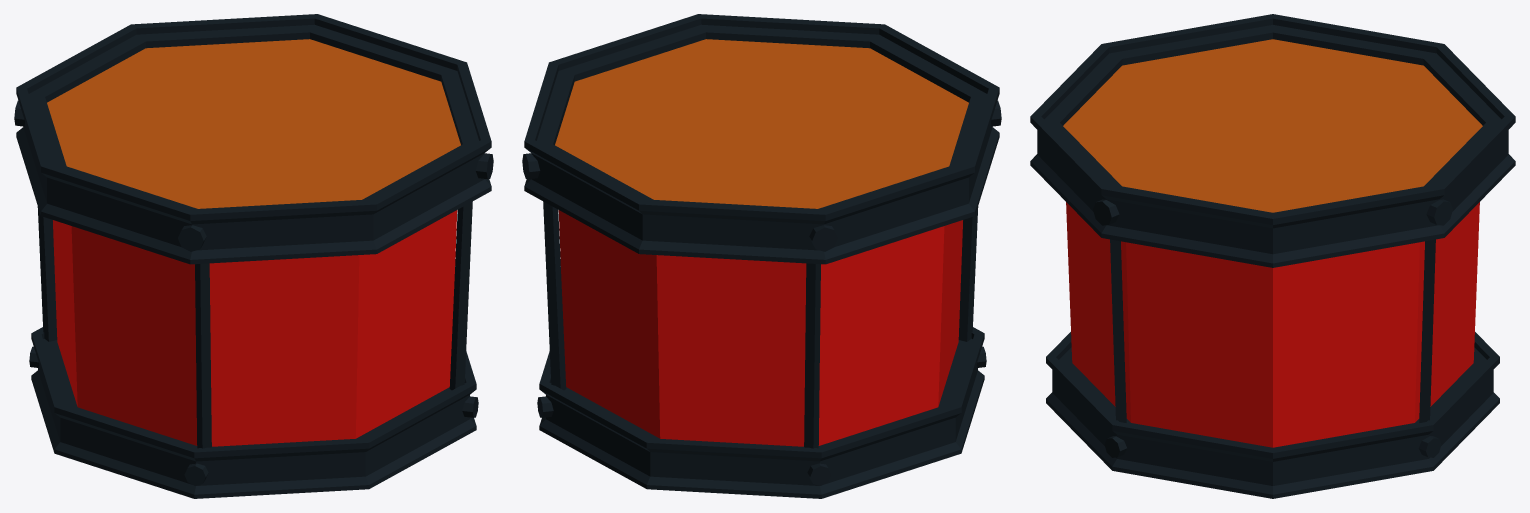
The model's file is Drum_01.obj.
The picture shows the model from 3 angles, left to right: view 1: azimuth 30°, elevation 25°; view 2: azimuth 150°, elevation 25°; view 3: azimuth 270°, elevation 25°; orthographic projection.
Parts seen in each view (by area): view 1: Drum_Circle.002; view 2: Drum_Circle.002; view 3: Drum_Circle.002.
Part boxes in pixels (left/top/right/bottom): Drum_Circle.002: left=14, top=14, right=493, bottom=498; Drum_Circle.002: left=522, top=14, right=1001, bottom=498; Drum_Circle.002: left=1030, top=14, right=1515, bottom=498.
Size of the model in its own units: 11.57 by 7.54 by 11.57.
